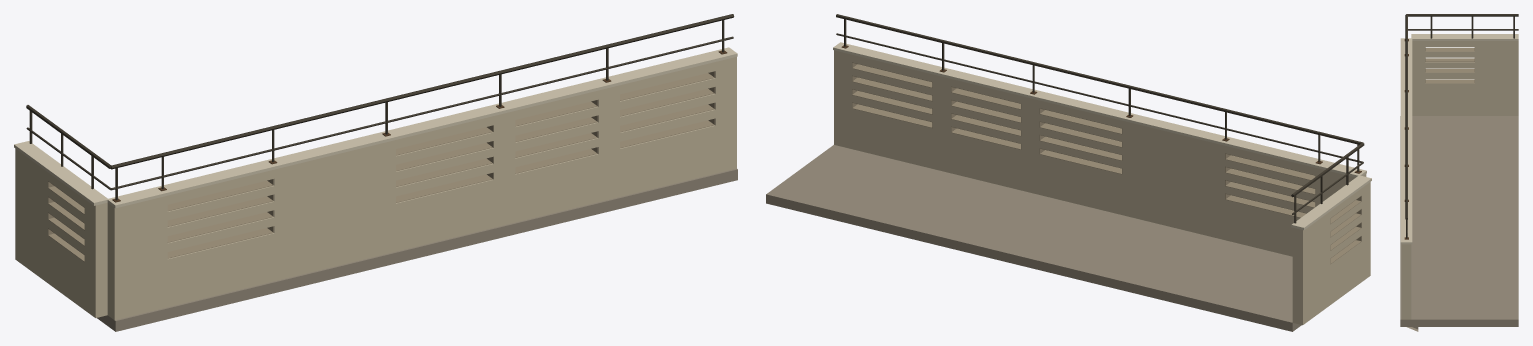
File: jingan-kade-apartments-slotted-balcony-lod.glb
3 views of the same model, side by side, from view 1: azimuth 30°, elevation 25°; view 2: azimuth 150°, elevation 25°; view 3: azimuth 270°, elevation 25° (orthographic). The views are drawn at different scales.
Visible parts, largest first — view 1: 卡德大楼街面阳台的四排横槽与转角铁栏; view 2: 卡德大楼街面阳台的四排横槽与转角铁栏; view 3: 卡德大楼街面阳台的四排横槽与转角铁栏.
Part boxes in pixels (<box>): 卡德大楼街面阳台的四排横槽与转角铁栏: <box>14,14,737,331</box>; 卡德大楼街面阳台的四排横槽与转角铁栏: <box>766,14,1371,331</box>; 卡德大楼街面阳台的四排横槽与转角铁栏: <box>1400,14,1518,331</box>.
Bounding box in the file's own units: 5.65 × 1.47 × 1.36.
